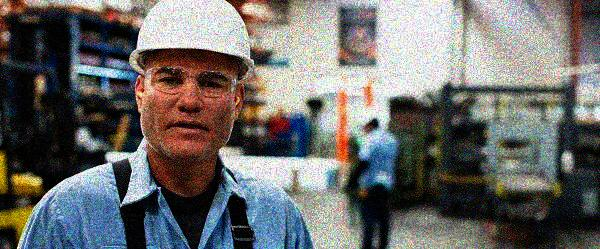helmet: (124, 1, 259, 165), (354, 106, 380, 135)
